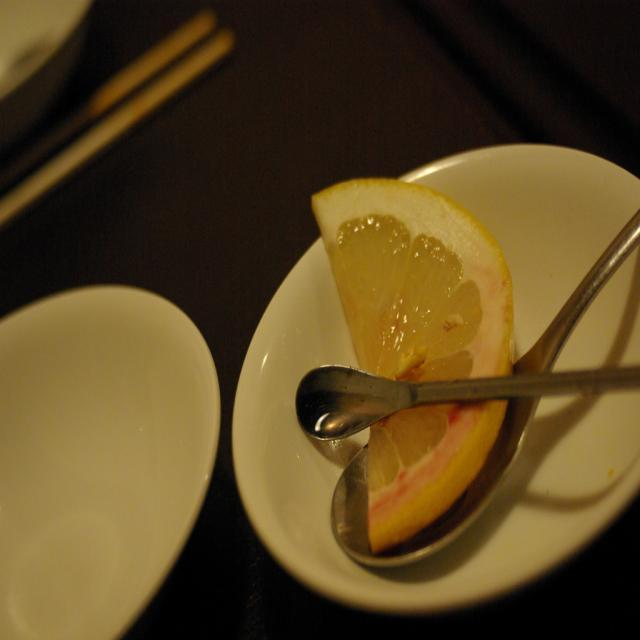Lemon: (309, 176, 513, 554)
